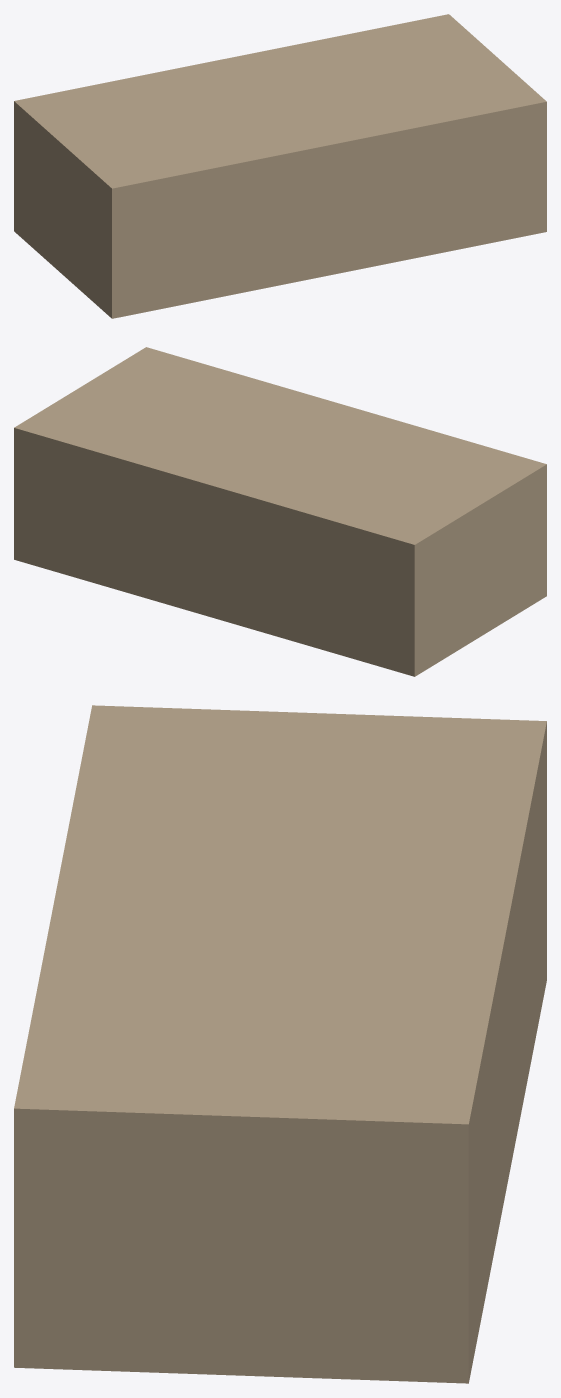
The model's file is bld_48777886.dae.
The picture shows the model from 3 angles, top to bottom: view 1: azimuth 30°, elevation 25°; view 2: azimuth 150°, elevation 25°; view 3: azimuth 270°, elevation 25°; orthographic projection. The views are drawn at different scales.
Parts seen in each view (by area): view 1: Maldon Graphic Arts; view 2: Maldon Graphic Arts; view 3: Maldon Graphic Arts.
Boxes of the visible parts, box(x1,y1,x2,y2) form: Maldon Graphic Arts: box(14, 14, 546, 318); Maldon Graphic Arts: box(14, 347, 546, 676); Maldon Graphic Arts: box(14, 705, 546, 1383).
Size of the model in its own units: 34.67 by 18.64 by 10.
